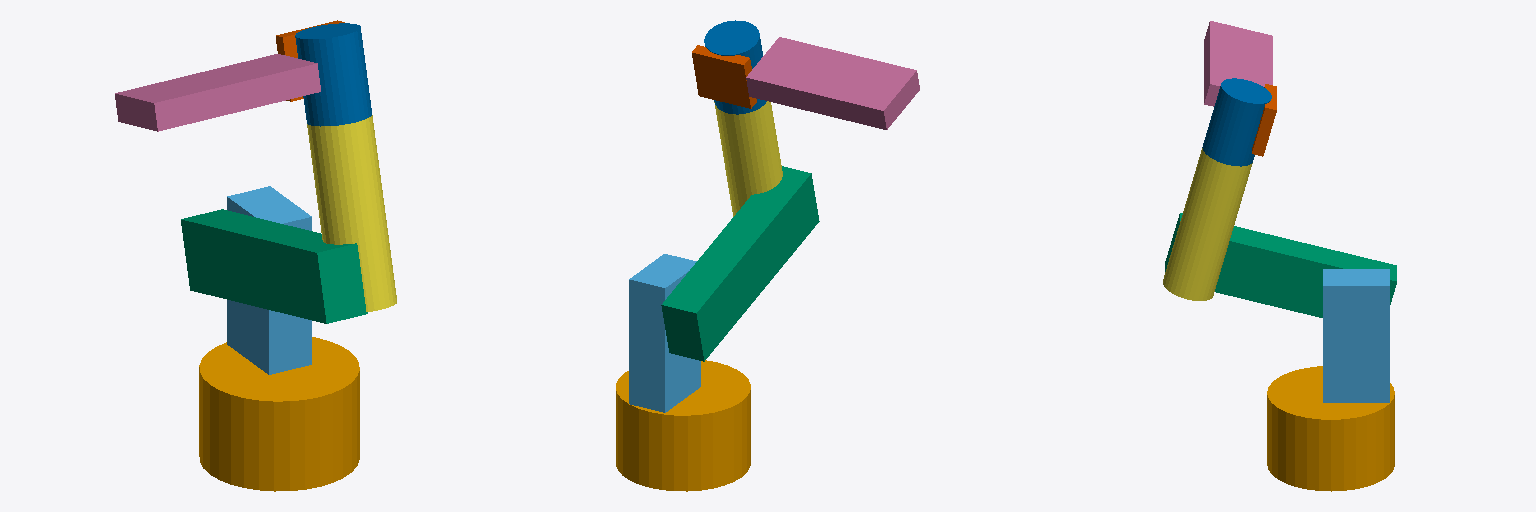
robot.urdf — brazo_robot:
<?xml version="1.0"?> 
 <robot name="brazo_robot"> 
     <link name="base"> 
         <visual>
             <origin rpy="0 0 0" xyz="0 0 0.0284"/> 
             <geometry> 
                 <cylinder radius="0.046" length="0.0568"/> 
             </geometry>
         </visual> 
     </link>
     <link name="eje_central"> 
         <visual>
             <origin rpy="0 0 0" xyz="0 0 0.0468"/>
             <geometry> 
                 <box size="0.048 0.0285 0.0935"/> 
             </geometry> 
         </visual> 
     </link>
     <joint name="union_base_eje_central" type="revolute">
         <origin rpy="0 0 -1.570796327" xyz="0.0039 0.0182 0.0568"/>
         <parent link="base"/>
         <child link="eje_central"/>
         <axis xyz="0 0 1"/>
         <limit lower="0" upper="3.141592654"/>
     </joint>
     <link name="antebrazo"> 
         <visual>
             <origin rpy="0 0 0" xyz="0 0 0.0560"/>
             <geometry> 
                 <box size="0.042 0.0275 0.1619"/>  
             </geometry> 
         </visual> 
     </link>
     <joint name="union_eje_central_antebrazo" type="revolute">
         <origin rpy="0 1.308996939 0" xyz="0 -0.0280 0.0695"/>
         <parent link="eje_central"/>
         <child link="antebrazo"/>
         <axis xyz="0 -1 0"/>
         <limit lower="0" upper="2.617993878"/>
     </joint>
     <link name="brazo"> 
         <visual>
             <origin rpy="0 0 0" xyz="0 0 0.0354"/>
             <geometry> 
                 <cylinder radius="0.019" length="0.1107"/> 
             </geometry> 
         </visual> 
     </link>
     <joint name="union_antebraz_brazo" type="revolute">
         <origin rpy="0 -1.570796327 0" xyz="0 0.0210 0.1199"/>
         <parent link="antebrazo"/>
         <child link="brazo"/>
         <axis xyz="0 1 0"/>
         <limit lower="0" upper="3.141592654"/>
     </joint>
     <link name="muneca"> 
         <visual> 
             <origin rpy="0 0 0" xyz="0 0 0.0257"/>
             <geometry> 
                 <cylinder radius="0.0190" length="0.0515"/> 
             </geometry> 
         </visual> 
     </link>
     <joint name="union_brazo_muneca" type="revolute">
         <origin rpy="0 0 -1.570796327" xyz="0 0 0.0907"/>
         <parent link="brazo"/>
         <child link="muneca"/>
         <axis xyz="0 0 1"/>
         <limit lower="0" upper="3.141592654"/>
     </joint>
     <link name="garra_inferior"> 
         <visual> 
             <origin rpy="0 0 0" xyz="0 0 0.0015"/>
             <geometry> 
                 <box size="0.038 0.0087 0.0411"/>
             </geometry> 
         </visual> 
     </link>
     <joint name="union_muneca_garra" type="revolute">
         <origin rpy="0 1.570796327 0" xyz="0 -0.0186 0.0319"/>
         <parent link="muneca"/>
         <child link="garra_inferior"/>
         <axis xyz="0 -1 0"/>
         <limit lower="0" upper="3.141592654"/>
     </joint>
     <link name="garra_superior"> 
         <visual> 
             <origin rpy="0 0 0" xyz="0 0 0.054"/>
             <geometry> 
                 <box size="0.0168 0.0470 0.1080"/>
             </geometry> 
         </visual> 
     </link>
     <joint name="union_garra" type="fixed">
         <origin rpy="0 0 0" xyz="0 0.0192 0.0220"/>
         <parent link="garra_inferior"/>
         <child link="garra_superior"/>
     </joint>
 </robot>

--- Render facts (derived) ---
The picture shows the robot from 3 angles, left to right: view 1: azimuth 30°, elevation 25°; view 2: azimuth 150°, elevation 25°; view 3: azimuth 270°, elevation 25°; orthographic projection.
Model brazo_robot with 7 links and 6 joints (5 revolute, 1 fixed), rooted at base, posed all joints at 0.
Visible links, largest first — view 1: base, antebrazo, brazo, garra_superior, eje_central, muneca, garra_inferior; view 2: antebrazo, base, garra_superior, eje_central, brazo, garra_inferior, muneca; view 3: base, eje_central, antebrazo, brazo, muneca, garra_superior, garra_inferior.
Link boxes in pixels (box(x1,y1,x2,y2)): base: box(199, 337, 359, 491); antebrazo: box(181, 209, 367, 323); brazo: box(307, 115, 396, 311); garra_superior: box(115, 54, 320, 131); eje_central: box(227, 186, 311, 374); muneca: box(295, 23, 371, 126); garra_inferior: box(276, 20, 344, 101); antebrazo: box(661, 166, 819, 361); base: box(616, 360, 750, 491); garra_superior: box(746, 37, 919, 129); eje_central: box(629, 254, 700, 412); brazo: box(714, 101, 782, 216); garra_inferior: box(692, 45, 756, 108); muneca: box(704, 20, 766, 114); base: box(1267, 366, 1394, 491); eje_central: box(1323, 269, 1389, 402); antebrazo: box(1165, 213, 1396, 317); brazo: box(1163, 148, 1252, 300); muneca: box(1202, 78, 1271, 166); garra_superior: box(1204, 21, 1272, 106); garra_inferior: box(1252, 84, 1276, 156).
Bounding box of the posed robot: 0.1791 × 0.1689 × 0.2996 m (x, y, z).
Geometry: primitives only (box / cylinder / sphere), no mesh files.